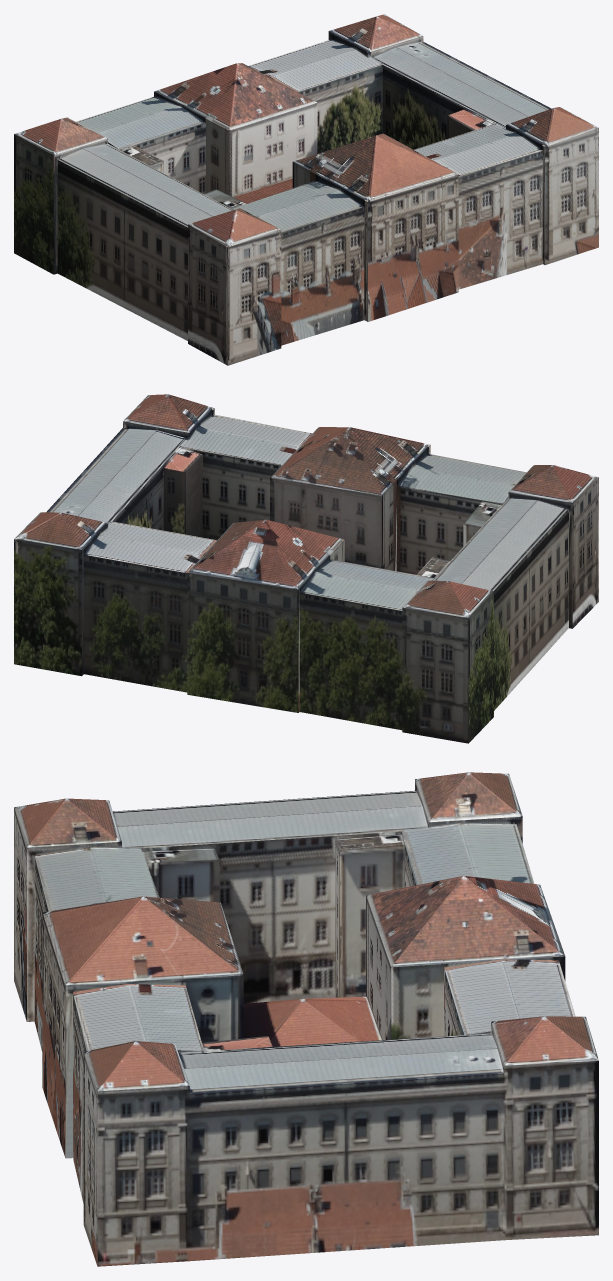
3 views of the same model, one above another, from view 1: azimuth 30°, elevation 25°; view 2: azimuth 150°, elevation 25°; view 3: azimuth 270°, elevation 25° (orthographic). The views are drawn at different scales.
Visible parts, largest first — view 1: Z_UP; view 2: Z_UP; view 3: Z_UP.
Part boxes in pixels (bbox=[...]): Z_UP: bbox=[14, 14, 598, 365]; Z_UP: bbox=[14, 394, 598, 743]; Z_UP: bbox=[14, 772, 598, 1266].
Size of the model in its own units: 74.74 by 24.28 by 58.08.
2 materials, 1 textured.
